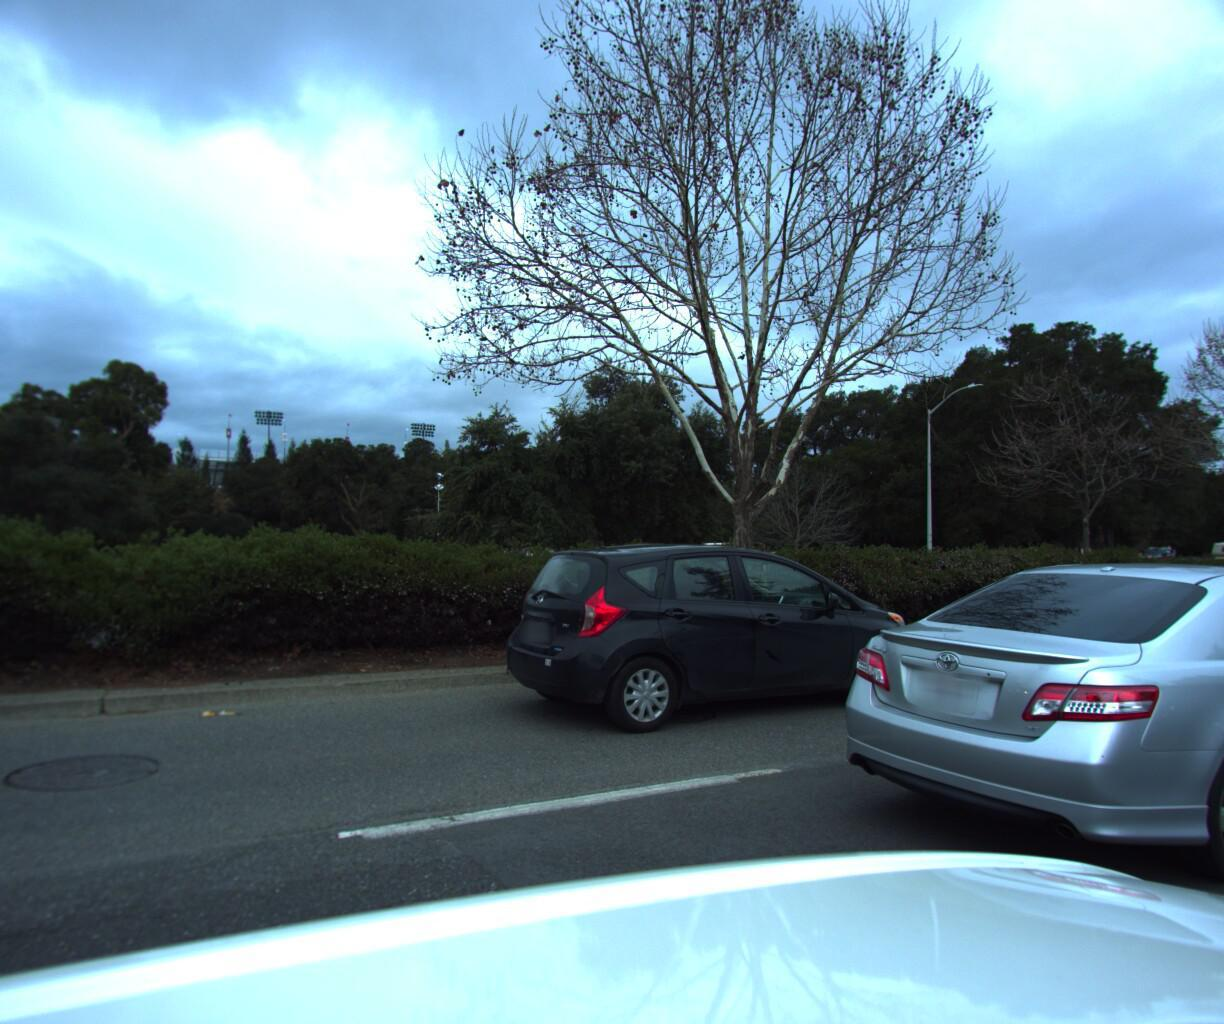car: (794, 557, 1224, 957), (480, 538, 951, 744)
other_vehicle: (1197, 527, 1224, 589)
